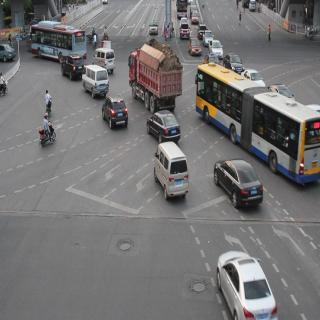BigCar: (193, 49, 320, 189), (124, 41, 188, 114), (29, 21, 87, 69)
Car: (210, 243, 283, 320), (211, 154, 267, 214), (150, 140, 196, 204), (80, 62, 112, 97), (102, 96, 130, 130), (57, 50, 85, 84), (92, 45, 119, 76)
